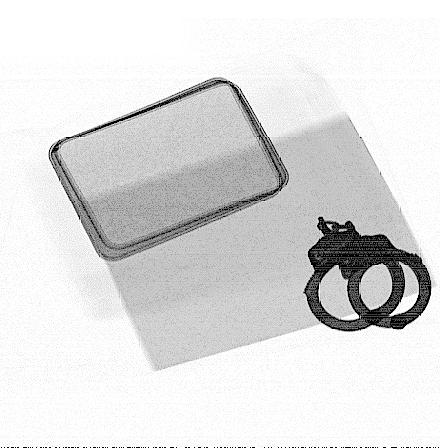HandCuffs: (296, 215, 433, 335)
